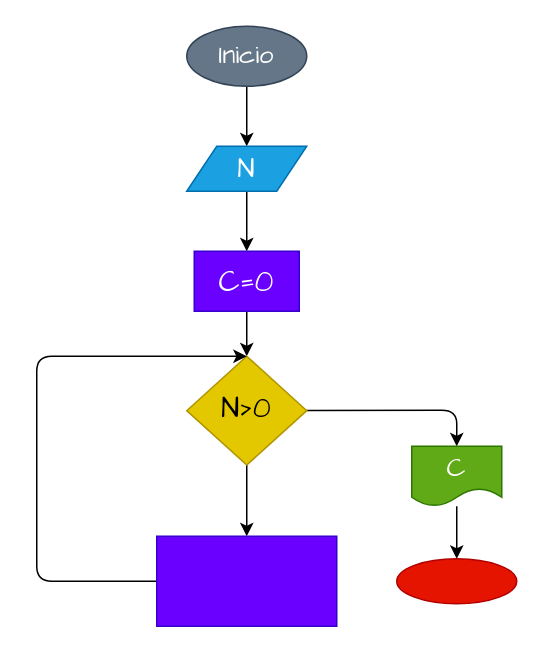
Some shapes in this 543 by 653 pixel diagram are drawn without their labels. Here are the shapes that lost their labels. From the top down, the centre of each, then its label:
At (x=246, y=580): "N=N//10 C=C+1".
At (x=456, y=580): "Fin".
